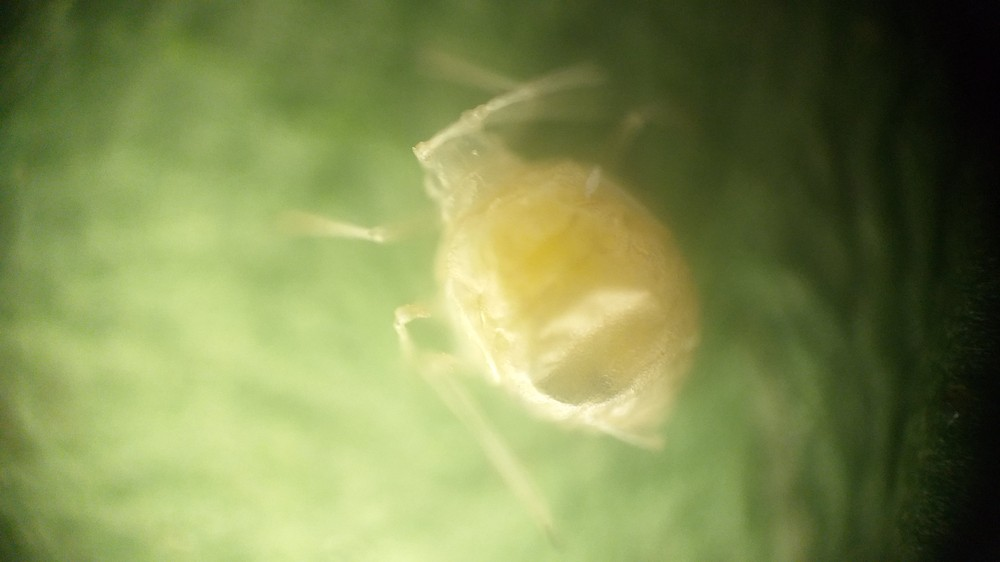Pulgon: (269, 44, 811, 542)
